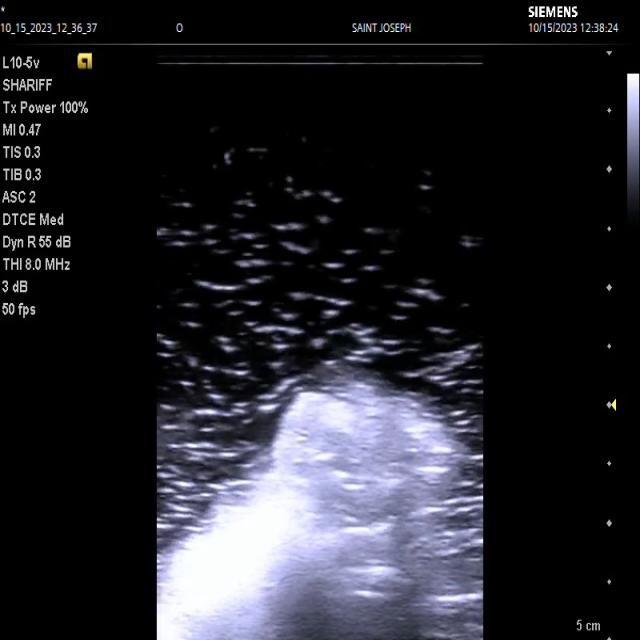tissue: (156, 388, 467, 640)
